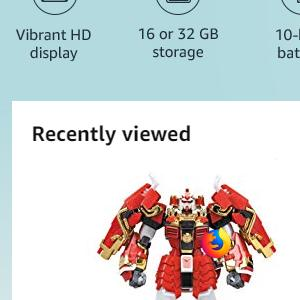firefox: (202, 227, 231, 258)
